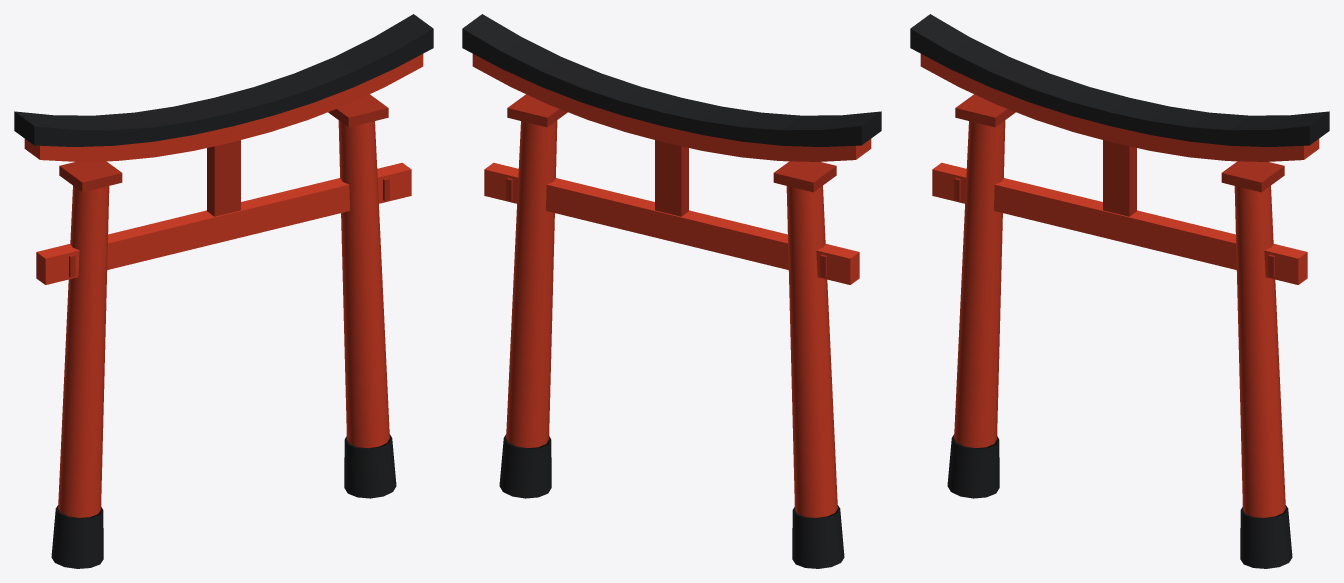
Rendered from tokyo_torii.glb.
The picture shows the model from 3 angles, left to right: view 1: azimuth 30°, elevation 25°; view 2: azimuth 150°, elevation 25°; view 3: azimuth 330°, elevation 25°; orthographic projection.
Visible parts, largest first — view 1: tokyo_torii; view 2: tokyo_torii; view 3: tokyo_torii.
Boxes of the visible parts, x1,y1,x2,y2 form: tokyo_torii: (14,14,433,568); tokyo_torii: (462,14,881,568); tokyo_torii: (910,14,1329,568).
Bounding box in the file's own units: 6 × 6.51 × 0.68.
Materials: 1 (1 with a texture image).
